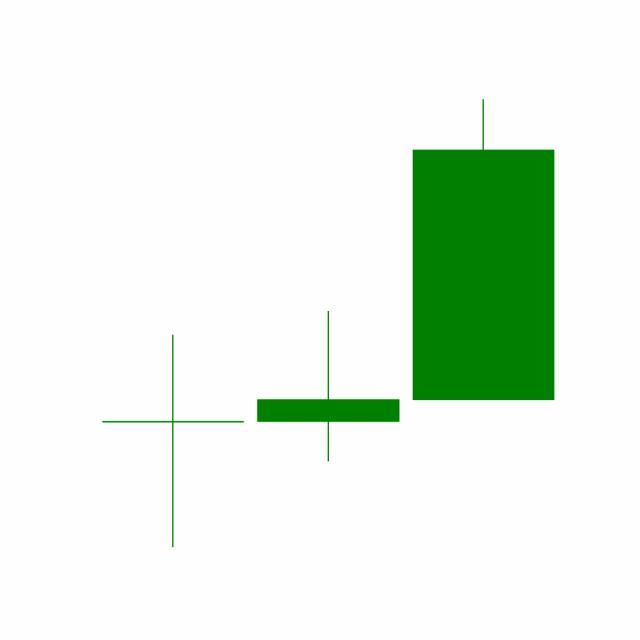Gravestone Doji: (250, 310, 407, 465)
